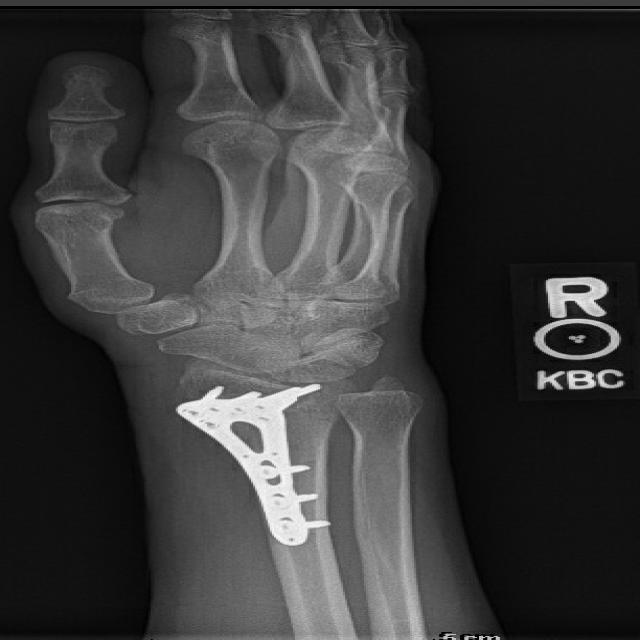x-ray: (159, 366, 362, 558)
